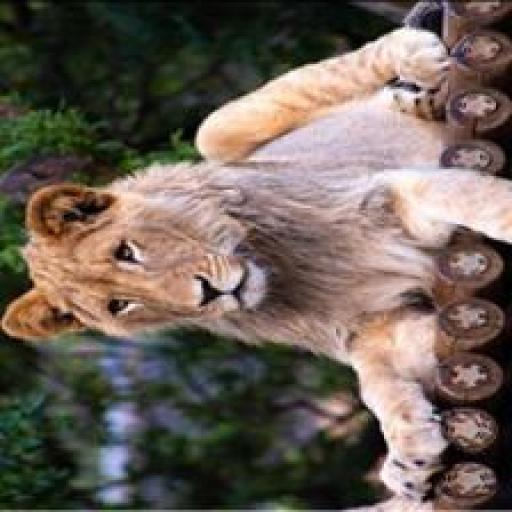lion: (2, 9, 511, 511)
